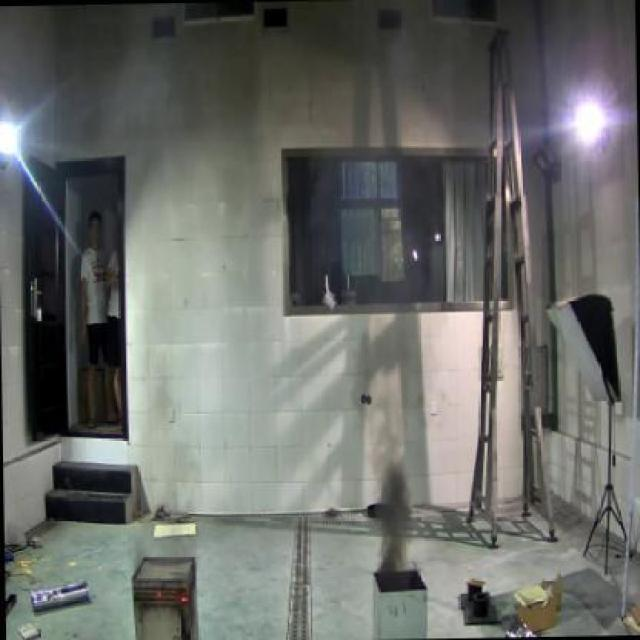fire: (370, 447, 421, 578)
